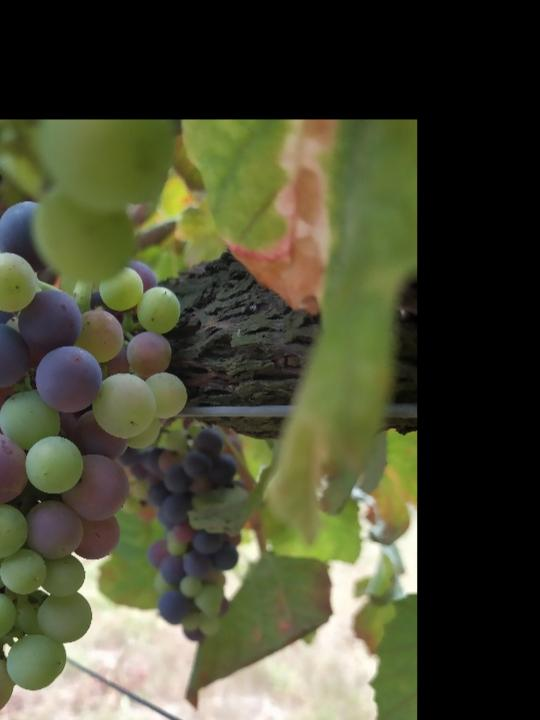grape: (0, 196, 191, 719)
